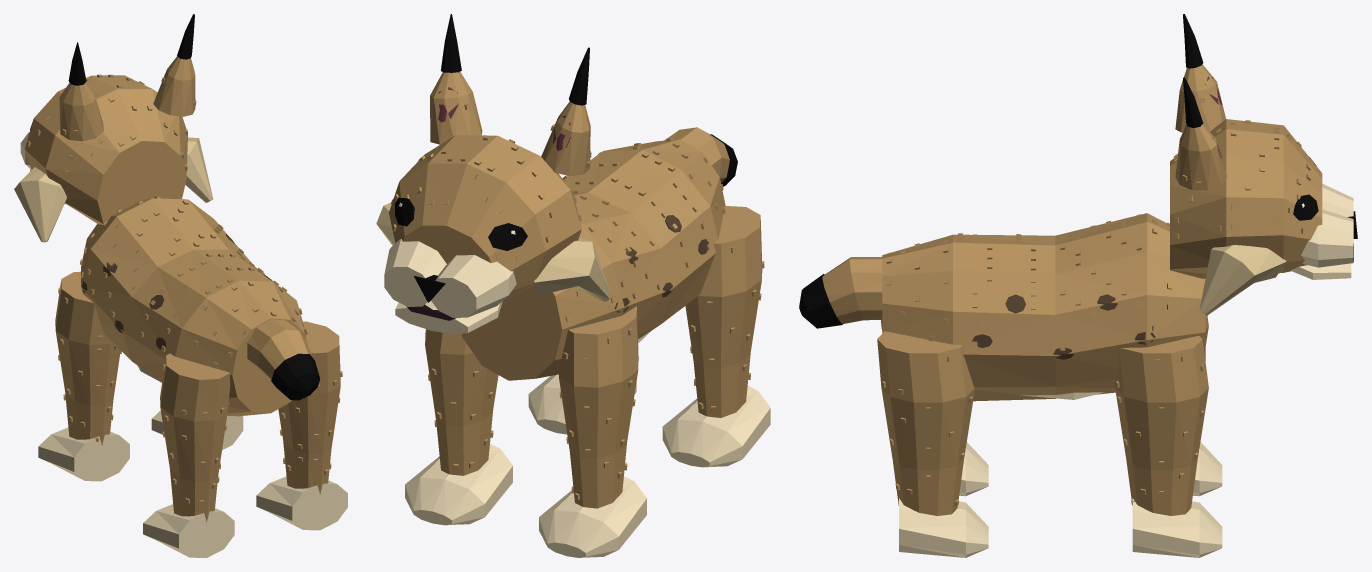
Rendered from Lynx.fbx.
The picture shows the model from 3 angles, left to right: view 1: azimuth 30°, elevation 25°; view 2: azimuth 150°, elevation 25°; view 3: azimuth 270°, elevation 25°; orthographic projection. The views are drawn at different scales.
Visible parts, largest first — view 1: Import3D_Core, Import3D_Head, Import3D_LegBL, Import3D_LegFL, Import3D_LegBR, Import3D_LegBRFoot, Import3D_LegFLFoot, Import3D_LegBLFoot, Import3D_EarL, Import3D_EarR, Import3D_Tail, Import3D_BobtailTip (+1 smaller); view 2: Import3D_Core, Import3D_Head, Import3D_LegFL, Import3D_LegBL, Import3D_LegFR, Import3D_LegBLFoot, Import3D_LegFRFoot, Import3D_LegFLFoot, Import3D_EarR, Import3D_EarL, Import3D_Jaw, Import3D_LegBRFoot (+2 smaller); view 3: Import3D_Core, Import3D_Head, Import3D_LegBR, Import3D_LegFR, Import3D_LegFRFoot, Import3D_LegBRFoot, Import3D_Tail, Import3D_EarR, Import3D_EarL, Import3D_BobtailTip, Import3D_LegFLFoot, Import3D_LegBLFoot (+1 smaller).
Boxes of the visible parts, x1,y1,x2,y2 form: Import3D_Core: (80,197,307,416); Import3D_Head: (14,74,213,242); Import3D_LegBL: (160,353,230,522); Import3D_LegFL: (55,271,121,445); Import3D_LegBR: (278,321,342,494); Import3D_LegBRFoot: (256,476,347,530); Import3D_LegFLFoot: (38,427,129,481); Import3D_LegBLFoot: (143,504,234,557); Import3D_EarL: (59,42,103,141); Import3D_EarR: (153,14,196,116); Import3D_Tail: (247,319,311,381); Import3D_BobtailTip: (271,353,320,400); Import3D_Core: (461,138,725,380); Import3D_Head: (376,135,611,317); Import3D_LegFL: (559,306,638,508); Import3D_LegBL: (685,206,764,417); Import3D_LegFR: (425,329,498,475); Import3D_LegBLFoot: (662,386,770,467); Import3D_LegFRFoot: (405,443,512,525); Import3D_LegFLFoot: (539,476,646,557); Import3D_EarR: (430,14,482,144); Import3D_EarL: (541,47,591,175); Import3D_Jaw: (395,301,502,334); Import3D_LegBRFoot: (528,374,636,434); Import3D_Core: (882,213,1205,401); Import3D_Head: (1170,119,1357,315); Import3D_LegBR: (877,331,975,515); Import3D_LegFR: (1114,335,1208,515); Import3D_LegFRFoot: (1132,498,1222,557); Import3D_LegBRFoot: (899,498,988,557); Import3D_Tail: (822,256,882,324); Import3D_EarR: (1175,77,1227,190); Import3D_EarL: (1175,14,1225,132); Import3D_BobtailTip: (799,274,842,328); Import3D_LegFLFoot: (1193,442,1222,496); Import3D_LegBLFoot: (959,442,988,496).
Size of the model in its own units: 112 by 251 by 268.
Materials: 1 (1 with a texture image).
